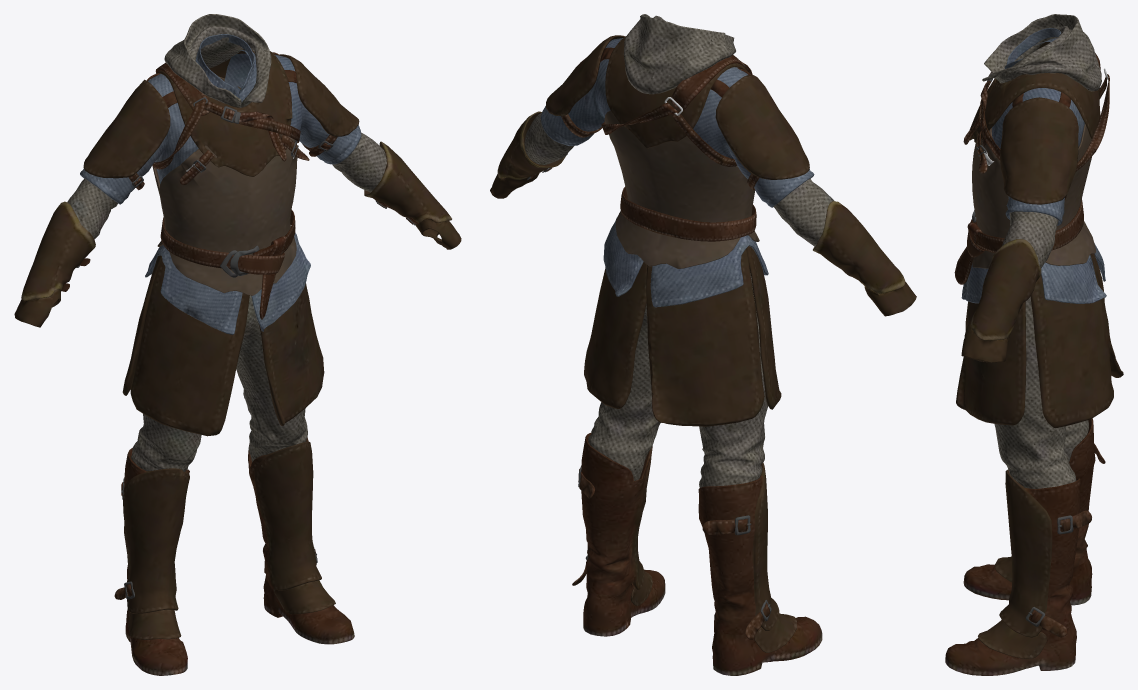
The model's file is hunter_leather.glb.
The picture shows the model from 3 angles, left to right: view 1: azimuth 30°, elevation 25°; view 2: azimuth 150°, elevation 25°; view 3: azimuth 270°, elevation 25°; orthographic projection. The views are drawn at different scales.
Visible parts, largest first — view 1: outfit; view 2: outfit; view 3: outfit.
Part boxes in pixels (x1,y1,x2,y2): outfit: [14, 14, 461, 675]; outfit: [490, 14, 916, 675]; outfit: [945, 14, 1123, 675].
Bounding box in the file's own units: 1.31 × 1.8 × 0.4784.
Materials: 1 (1 with a texture image).
